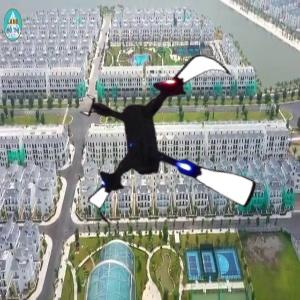drone: (70, 45, 274, 249)
